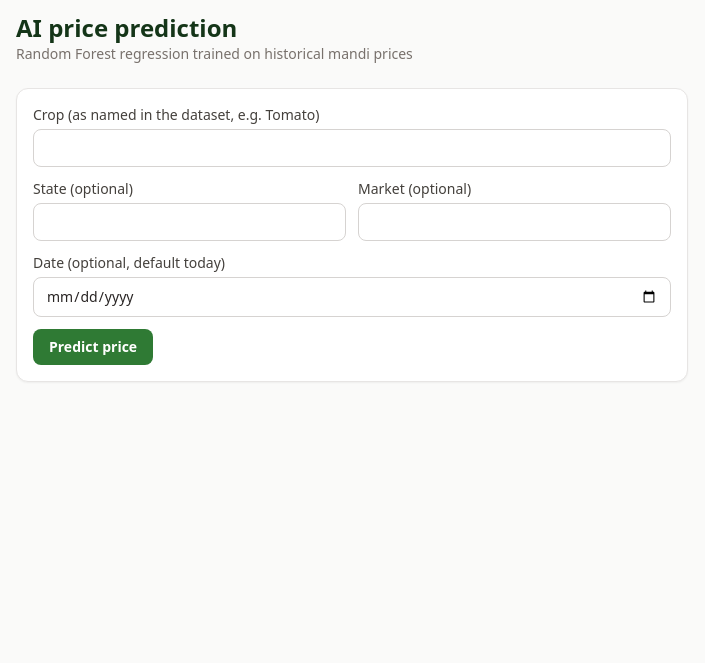
Test case: AI price prediction › displays a real model response with disclaimer
The image size is (705, 663).
Type "Tomato" into the field labelled "Crop (as named in the dataset, e.g. Tomato)" at (352, 148), box [33,129,671,167]
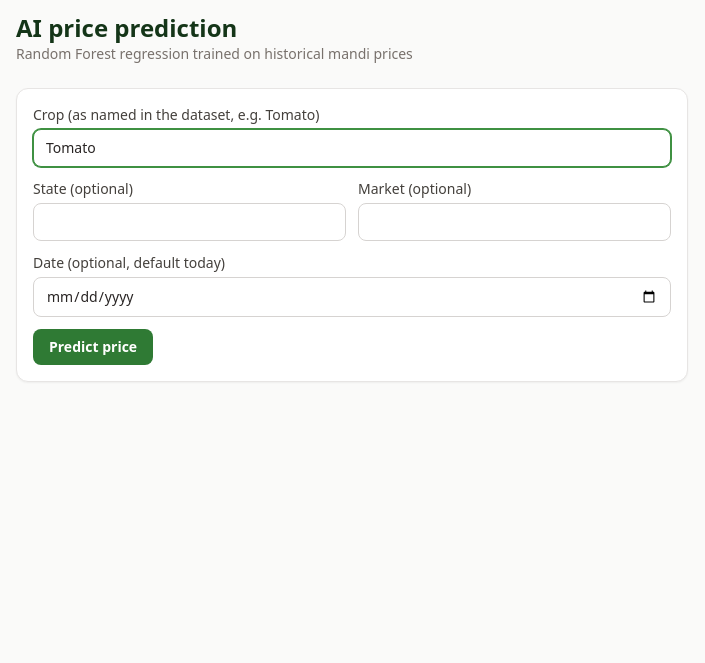
Click the button "Predict price" at (93, 347), box [33,329,153,365]
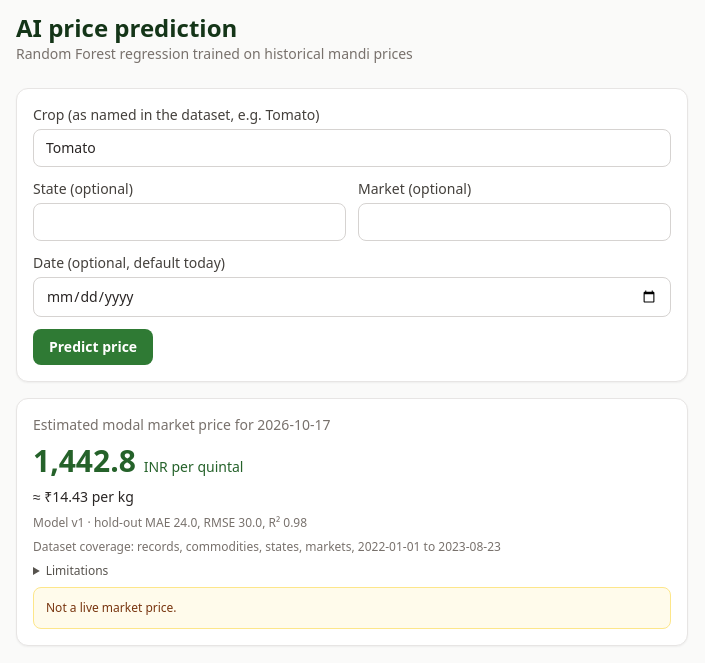
expect the element with test id "prediction" shows "1,442.8": met, box [33,440,136,481]
expect the text "Not a live market price." is shown: met, box [33,587,671,629]
